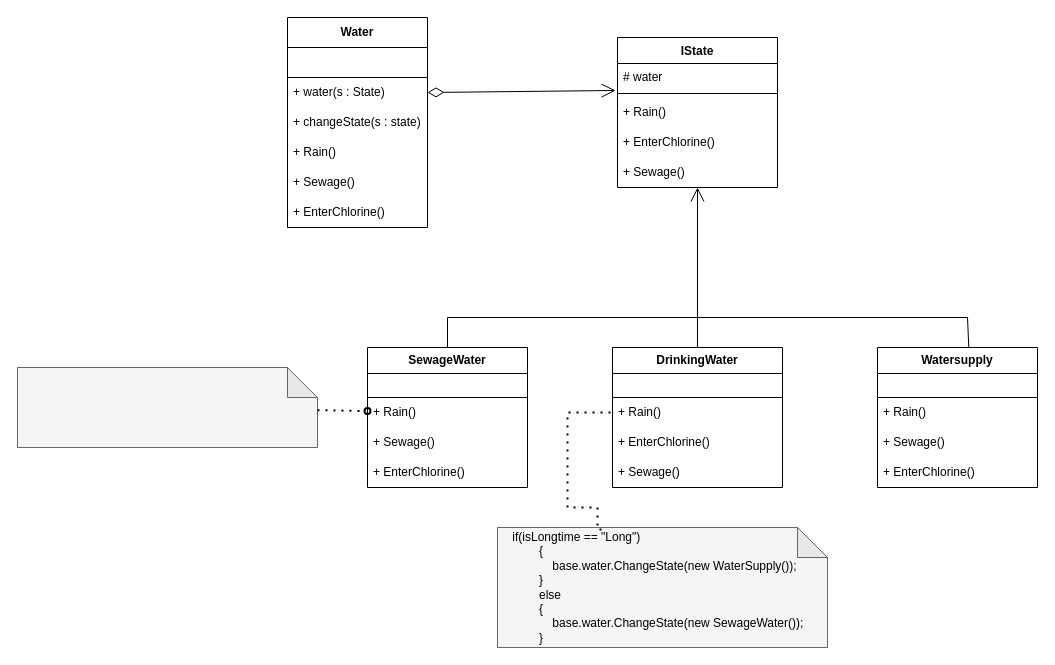
The diagram is 1055 pixels wide and 665 high, and some of its shapes have lost their labels. The shapes that lost their labels are listed below. From the top down, each one's centre as x and y in pixels, then its label:
point (357, 62): - state
point (167, 407): if (isLongtime == "Long") { base.water.ChangeState(new WaterSupply()); }
